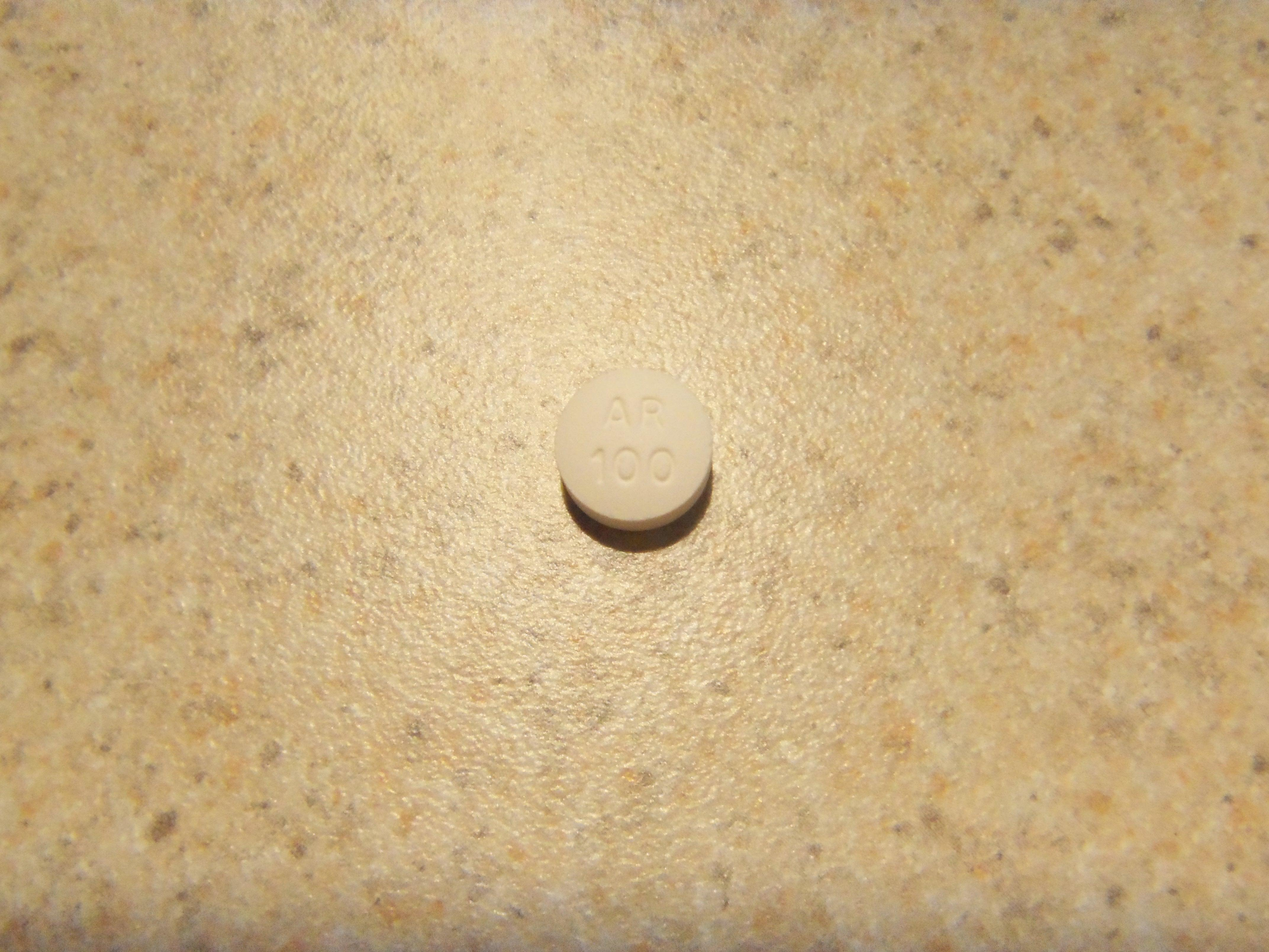Pill: (540, 357, 735, 543)
